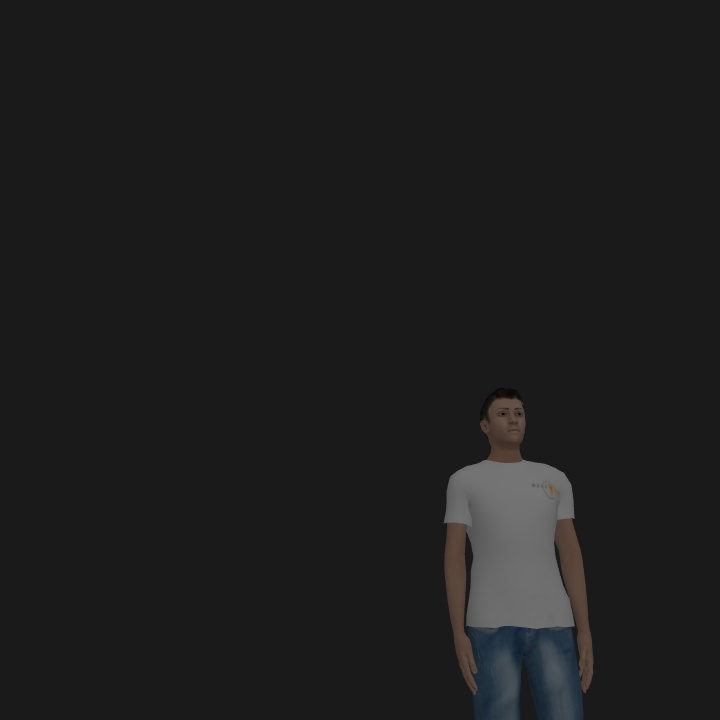victim: (443, 387, 593, 720)
